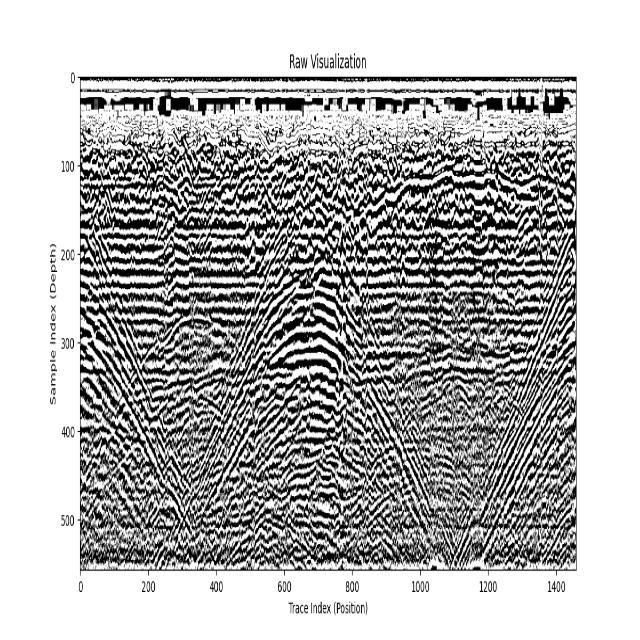anomaly: (151, 185, 465, 568), (80, 192, 227, 570), (82, 317, 293, 568), (447, 193, 576, 567)
